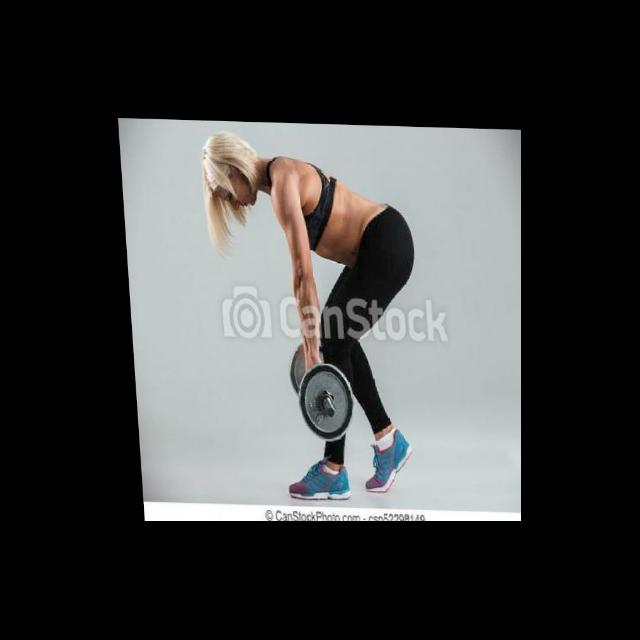barbell: (293, 360, 354, 442)
